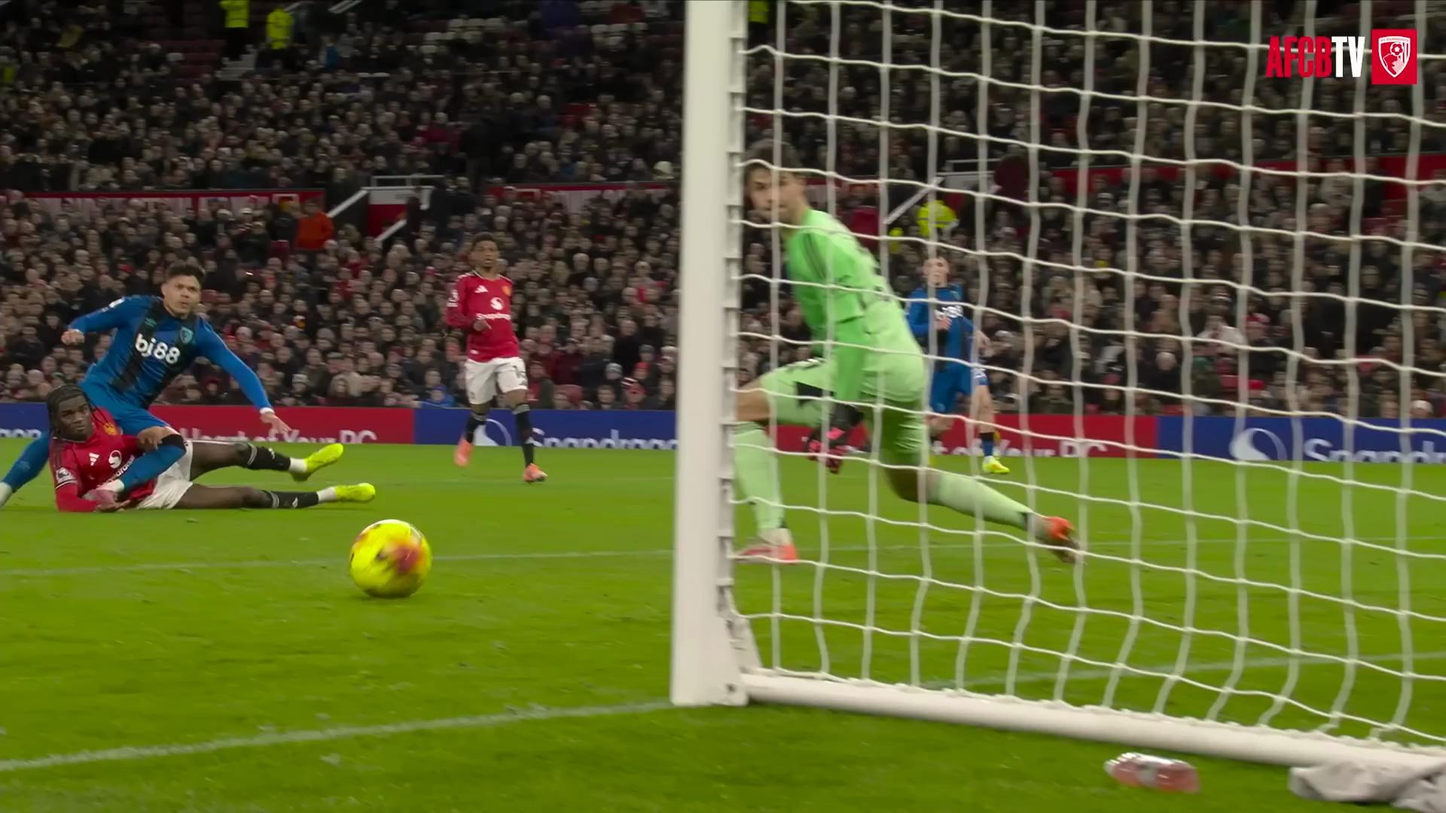football: (349, 519, 431, 598)
player: (735, 142, 1076, 562), (63, 263, 288, 504), (47, 385, 374, 511), (446, 234, 546, 483), (908, 257, 1008, 474)
